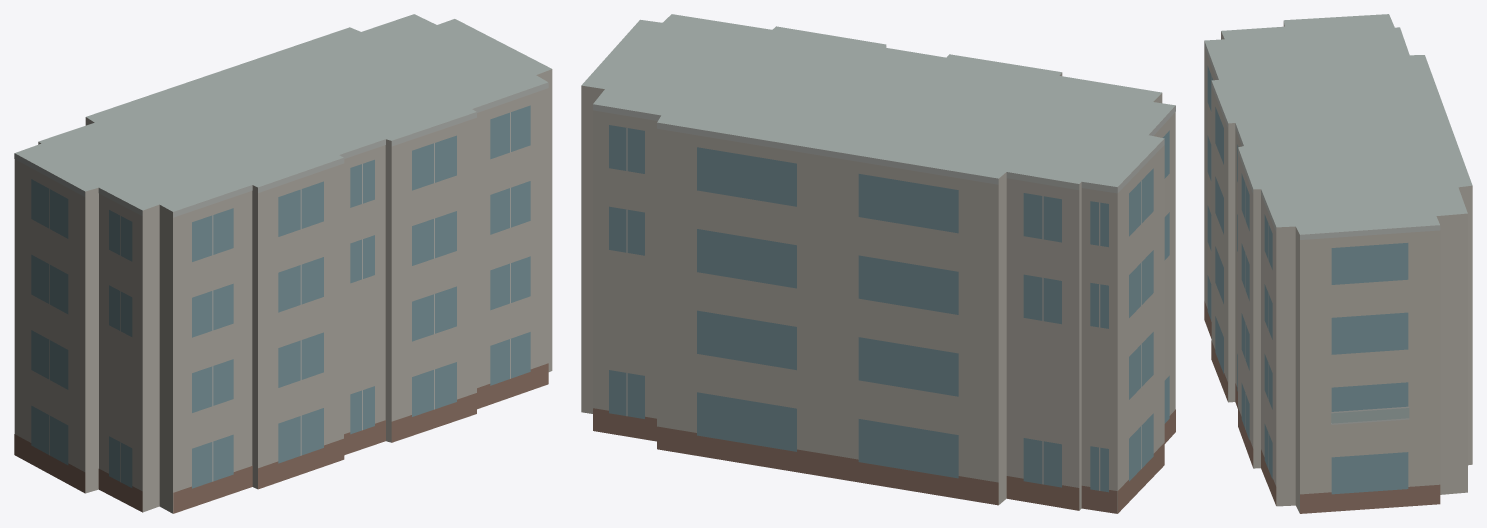
Rendered from survey-upis-32575346.glb.
3 renders of one model, left to right at view 1: azimuth 30°, elevation 25°; view 2: azimuth 150°, elevation 25°; view 3: azimuth 270°, elevation 25°, orthographic. The views are drawn at different scales.
Visible parts, largest first — view 1: survey-upis-32575346.tmp; view 2: survey-upis-32575346.tmp; view 3: survey-upis-32575346.tmp.
Boxes of the visible parts, <box> form: survey-upis-32575346.tmp: <box>14,14,552,513</box>; survey-upis-32575346.tmp: <box>581,14,1175,513</box>; survey-upis-32575346.tmp: <box>1204,14,1472,513</box>.
Size of the model in its own units: 21.73 by 12.8 by 11.16.
